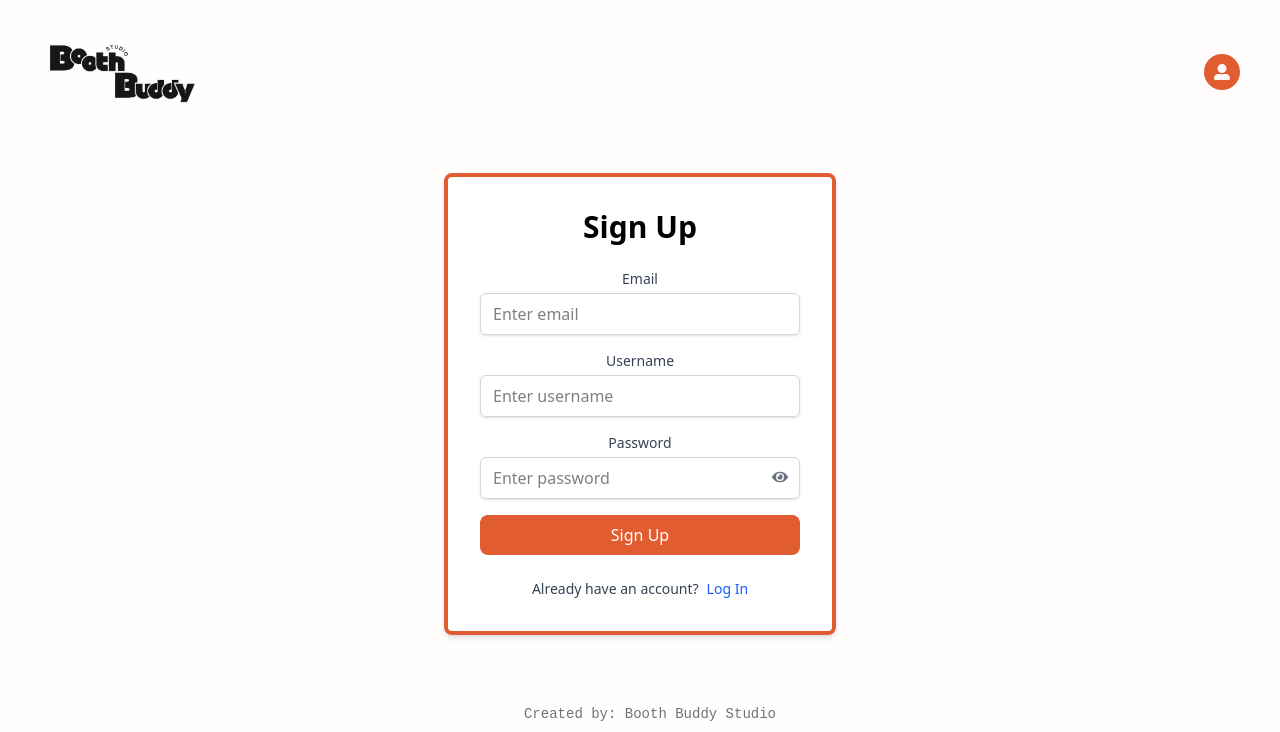
Test case: SignupPage Component › should enable Sign Up button when all fields are filled
The image size is (1280, 732).
Type "test@example.com" into the field with placeholder "Enter email" at coordinates (640, 314), box [480,293,800,335]
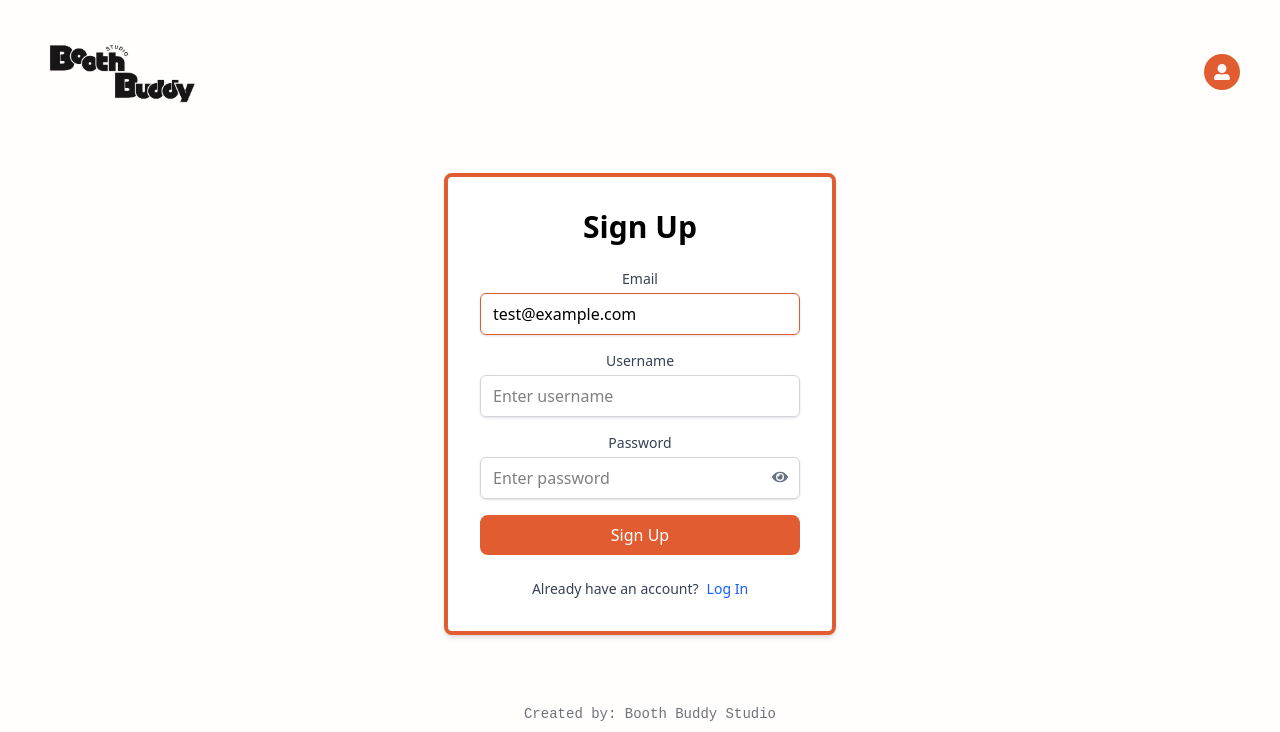
Type "testuser" into the field with placeholder "Enter username" at coordinates (640, 396), box [480,375,800,417]
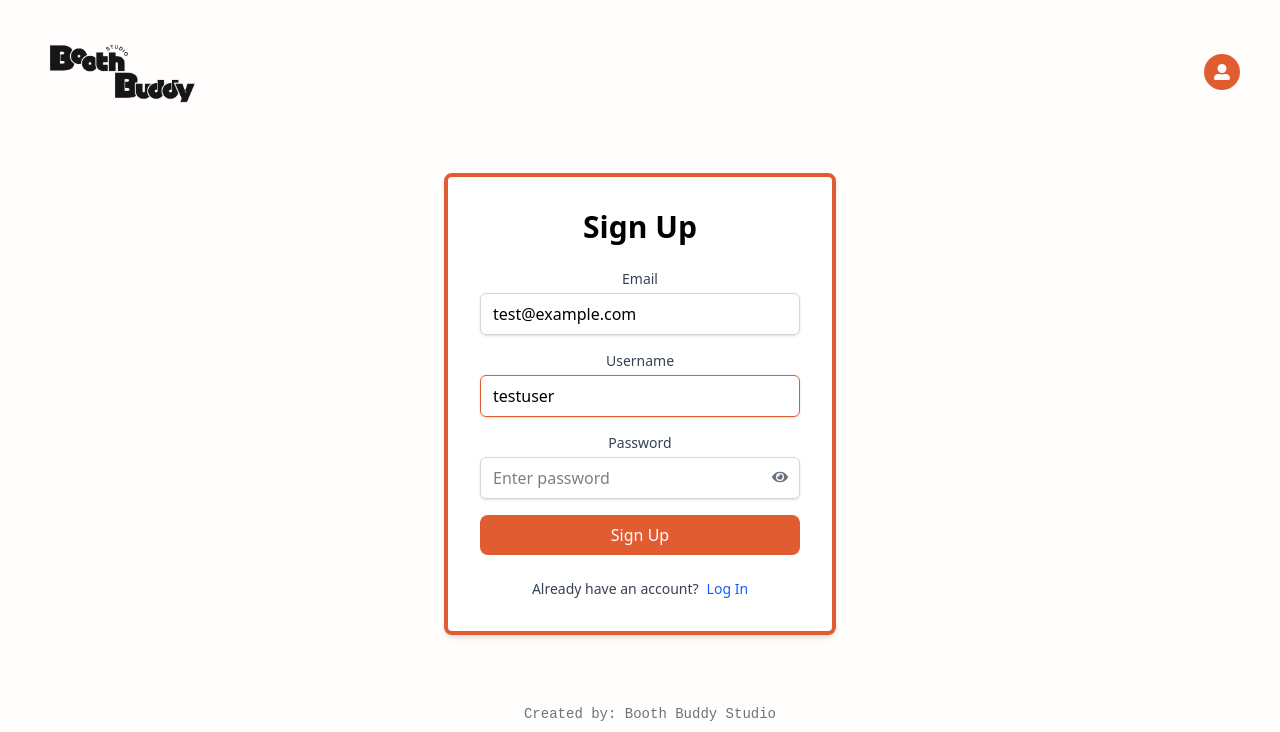
Type "Test123!" into the password field with placeholder "Enter password" at coordinates (640, 478), box [480,457,800,499]
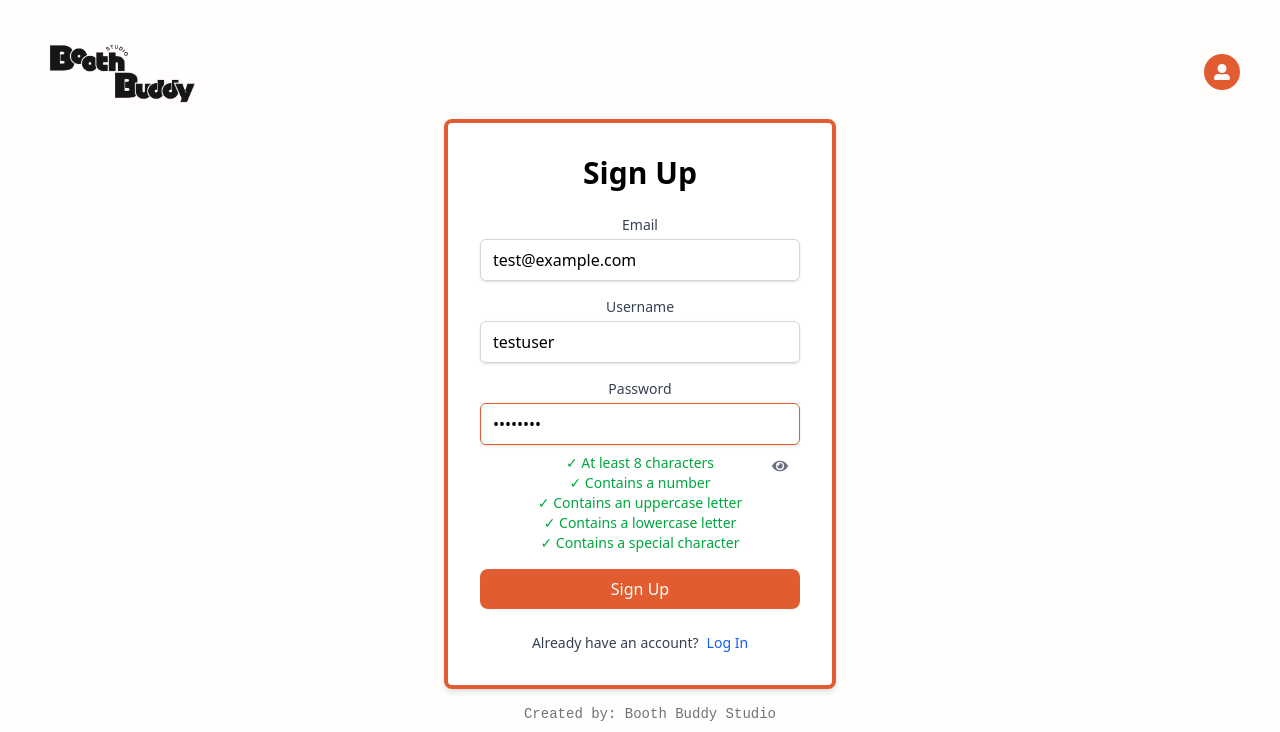
Expected: the button "Sign Up" is enabled, [480,569,800,609]
